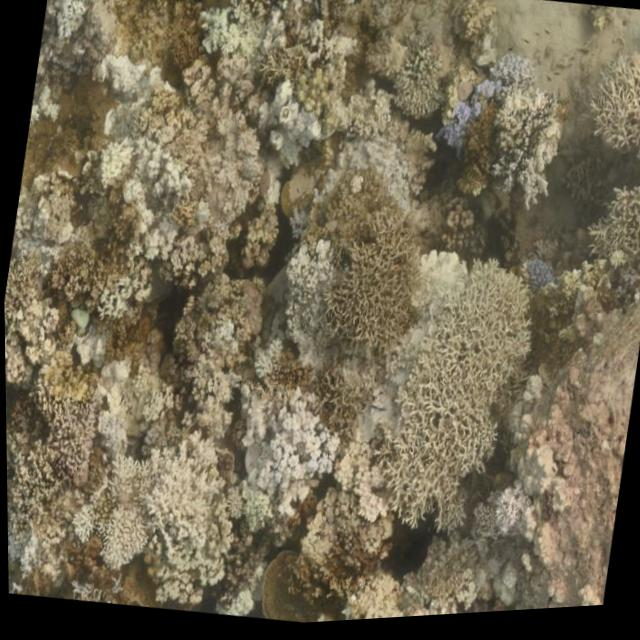Bleached Coral: (243, 392, 339, 510), (438, 58, 505, 160), (95, 488, 158, 576)
